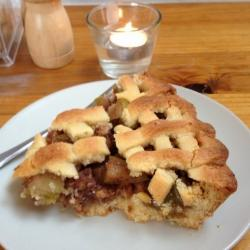apple_pie: (15, 70, 239, 237)
